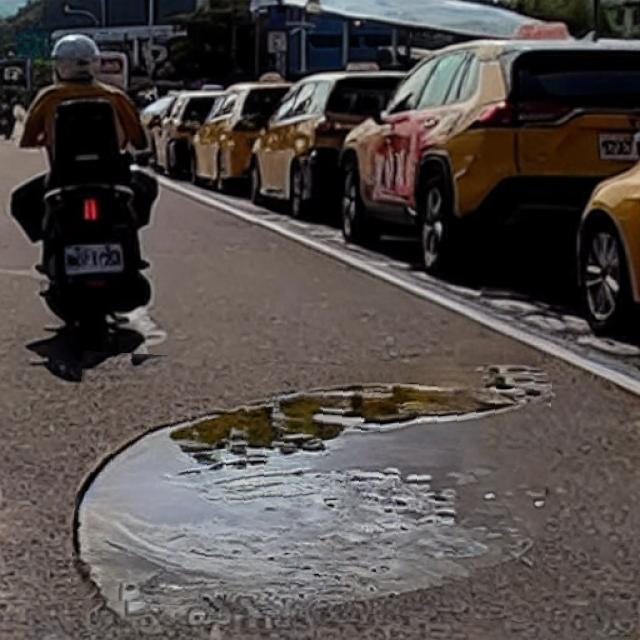puddle: (74, 359, 550, 619)
